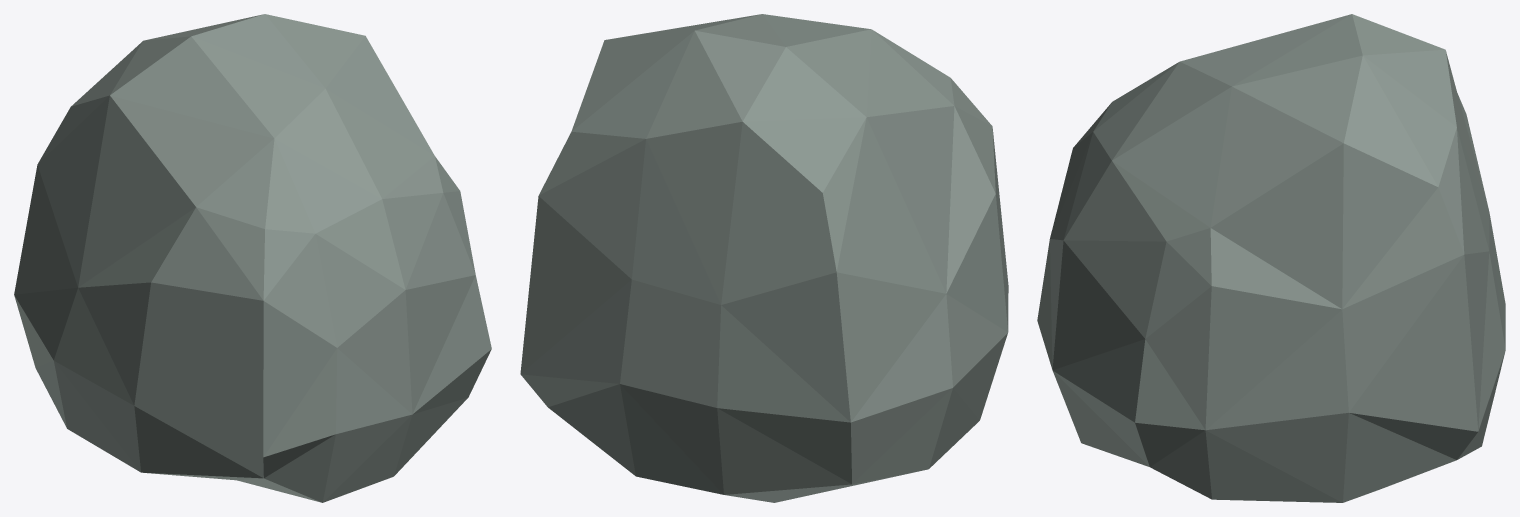
The model's file is Rock_Large_01.fbx.
The picture shows the model from 3 angles, left to right: view 1: azimuth 30°, elevation 25°; view 2: azimuth 150°, elevation 25°; view 3: azimuth 270°, elevation 25°; orthographic projection. The views are drawn at different scales.
Visible parts, largest first — view 1: Rock_Large_01; view 2: Rock_Large_01; view 3: Rock_Large_01.
Part boxes in pixels (<box>): Rock_Large_01: <box>14,14,491,502</box>; Rock_Large_01: <box>520,14,1008,502</box>; Rock_Large_01: <box>1037,14,1505,502</box>.
Bounding box in the file's own units: 2.02 × 2.18 × 2.13.
